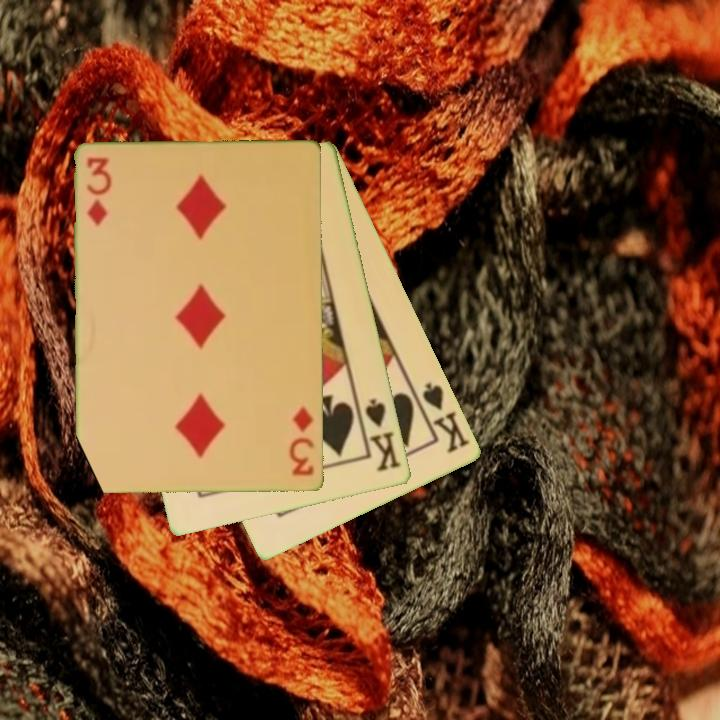3d: (286, 403, 317, 478), (84, 154, 112, 229)
Ks: (411, 379, 474, 456), (355, 395, 404, 475)
